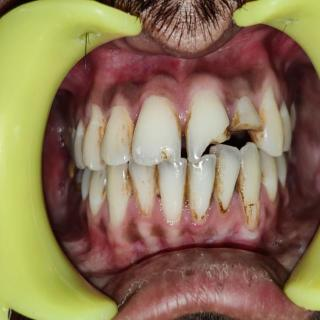LL1BC_mdecay: (260, 152, 279, 199)
LLCI_mdecay: (187, 157, 216, 218)
LLC_mdecay: (237, 143, 263, 223)
LLLI_sdecay: (213, 147, 241, 212)
LR1BC_mdecay: (89, 170, 107, 213)
LRCI_mdecay: (157, 158, 188, 220)
LRC_mdecay: (106, 168, 129, 222)
LRLI_mdecay: (129, 164, 157, 212)
ULCI_sdecay: (187, 92, 232, 164)
ULC_mdecay: (249, 88, 284, 156)
ULLI_sdecay: (231, 97, 262, 132)
URCI_sdecay: (132, 95, 182, 165)
URC_mdecay: (83, 107, 107, 170)
URLI_mdecay: (102, 107, 133, 165)
